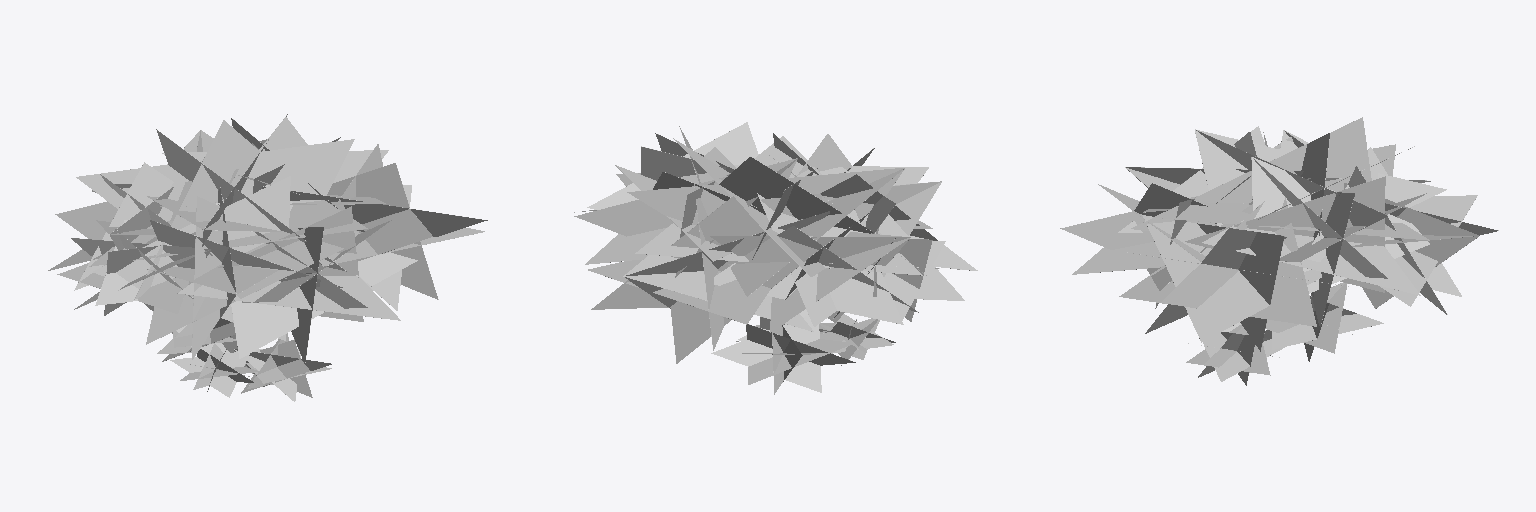
Rendered from KohmTreeFlat-Leaves.obj.
3 views of the same model, side by side, from view 1: azimuth 30°, elevation 25°; view 2: azimuth 150°, elevation 25°; view 3: azimuth 270°, elevation 25° (orthographic).
Parts seen in each view (by area): view 1: Plane.013_Circle.008; view 2: Plane.013_Circle.008; view 3: Plane.013_Circle.008.
Boxes of the visible parts, x1,y1,x2,y2 form: Plane.013_Circle.008: [48, 114, 487, 401]; Plane.013_Circle.008: [574, 122, 977, 394]; Plane.013_Circle.008: [1060, 117, 1498, 385].
Bounding box in the file's own units: 96.74 × 57.97 × 96.41.